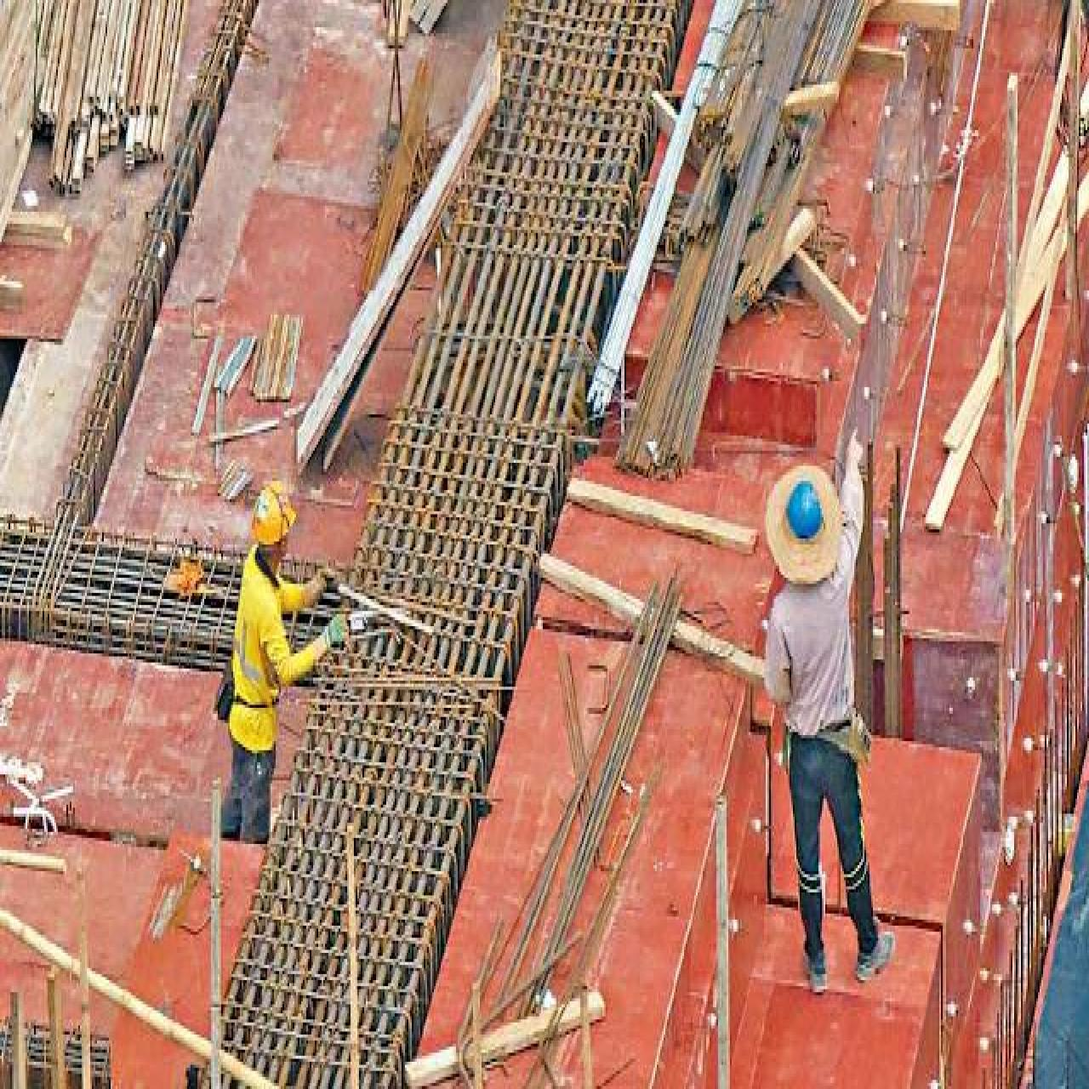NO_Safety_Vest: (777, 577, 862, 742), (226, 562, 290, 748)
Person: (747, 421, 921, 1033), (207, 478, 351, 837)
